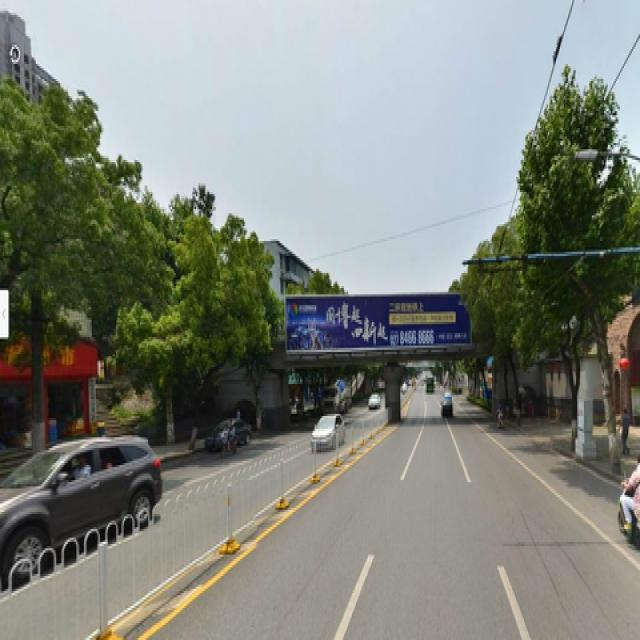cinn: (4, 100, 103, 435), (165, 220, 238, 450)
